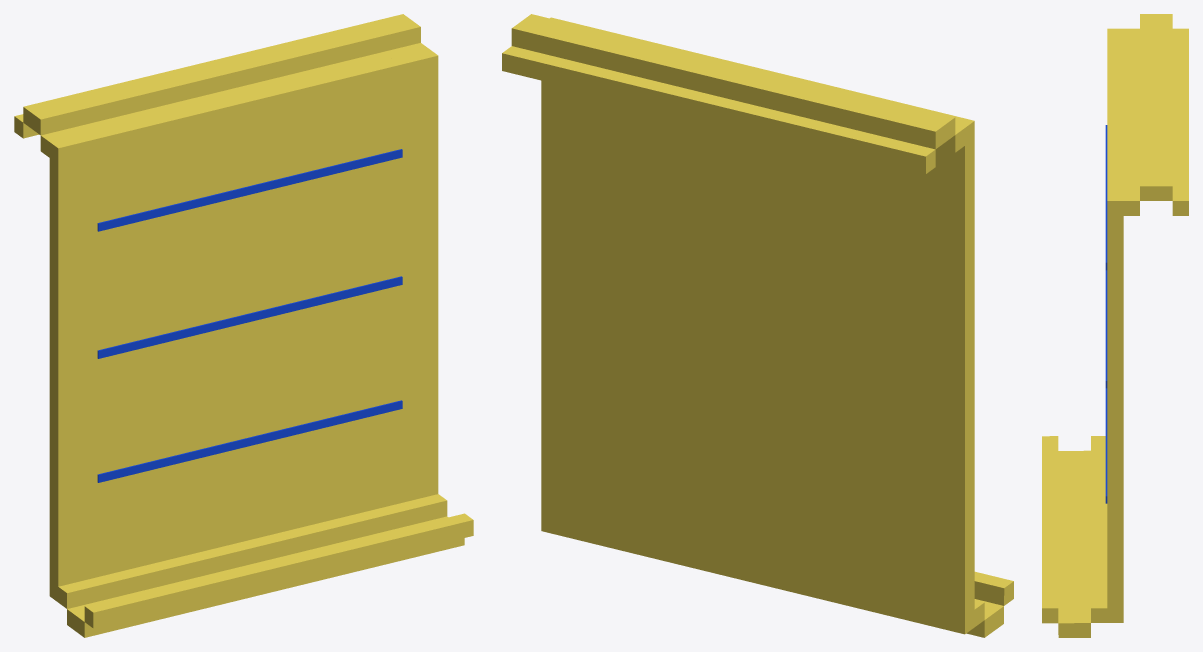
The model's file is parchemin.glb.
3 views of the same model, side by side, from view 1: azimuth 30°, elevation 25°; view 2: azimuth 150°, elevation 25°; view 3: azimuth 270°, elevation 25° (orthographic). The views are drawn at different scales.
Parts seen in each view (by area): view 1: Cube, Cube.006, Cube.009, Cube.001, Cube.002, Cube.003, Cube.005, Cube.008, Cube.011, Cube.010, Cube.007; view 2: Cube, Cube.003, Cube.004, Cube.001, Cube.009; view 3: Cube, Cube.002, Cube.004, Cube.009, Cube.007, Cube.001, Cube.003, Cube.005, Cube.006, Cube.011, Cube.008, Cube.010.
Boxes of the visible parts, x1,y1,x2,y2 form: Cube: (49,49,438,602); Cube.006: (58,494,447,608); Cube.009: (84,513,473,628); Cube.001: (32,20,420,135); Cube.002: (40,43,429,157); Cube.003: (23,14,411,128); Cube.005: (76,538,464,637); Cube.008: (97,276,402,358); Cube.011: (97,149,402,231); Cube.010: (97,400,402,482); Cube.007: (67,516,448,631); Cube: (541,17,974,634); Cube.003: (511,21,945,149); Cube.004: (502,46,935,174); Cube.001: (522,14,955,141); Cube.009: (974,571,1013,605); Cube: (1107,28,1123,622); Cube.002: (1123,28,1139,215); Cube.004: (1172,28,1188,215); Cube.009: (1042,436,1058,623); Cube.007: (1074,450,1090,637); Cube.001: (1140,14,1156,200); Cube.003: (1156,14,1172,200); Cube.005: (1058,451,1074,637); Cube.006: (1091,436,1107,622); Cube.011: (1105,125,1107,270); Cube.008: (1105,270,1107,388); Cube.010: (1105,388,1107,503).
Bounding box in the file's own units: 10 × 12.22 × 3.6.
